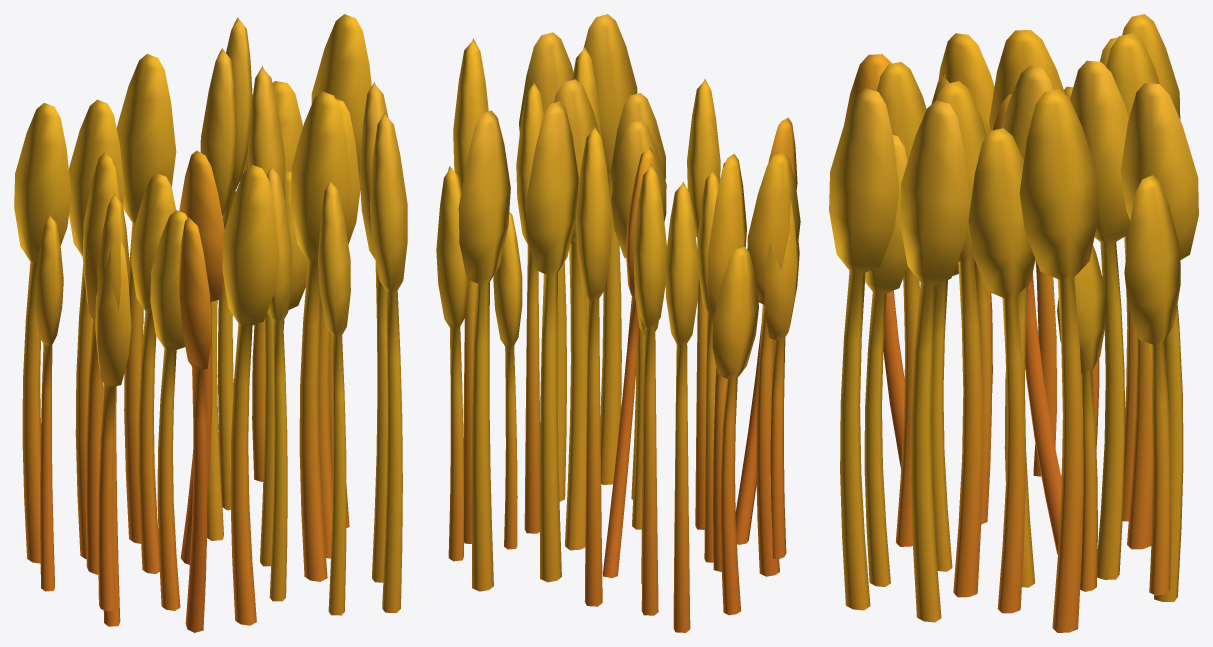
Rendered from WheatIsFull.fbx.
The picture shows the model from 3 angles, left to right: view 1: azimuth 30°, elevation 25°; view 2: azimuth 150°, elevation 25°; view 3: azimuth 270°, elevation 25°; orthographic projection. The views are drawn at different scales.
Parts seen in each view (by area): view 1: Farm_Wheat.020; view 2: Farm_Wheat.020; view 3: Farm_Wheat.020.
Part boxes in pixels (left/top/right/bottom): Farm_Wheat.020: left=14, top=14, right=407, bottom=632; Farm_Wheat.020: left=436, top=14, right=800, bottom=632; Farm_Wheat.020: left=829, top=14, right=1198, bottom=632.
Bounding box in the file's own units: 28.15 × 44.35 × 27.4.
